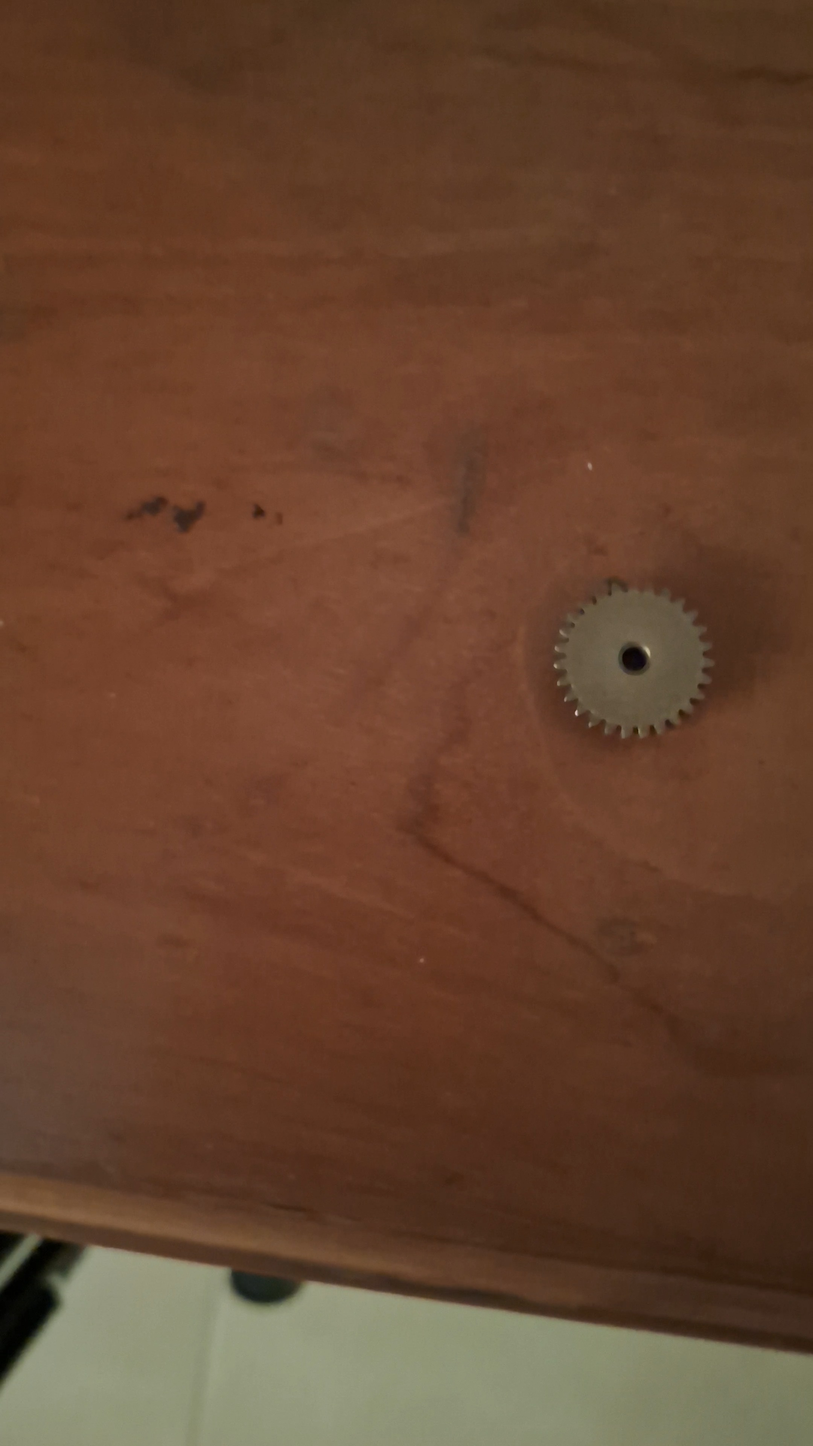spur gear: (554, 583, 713, 737)
